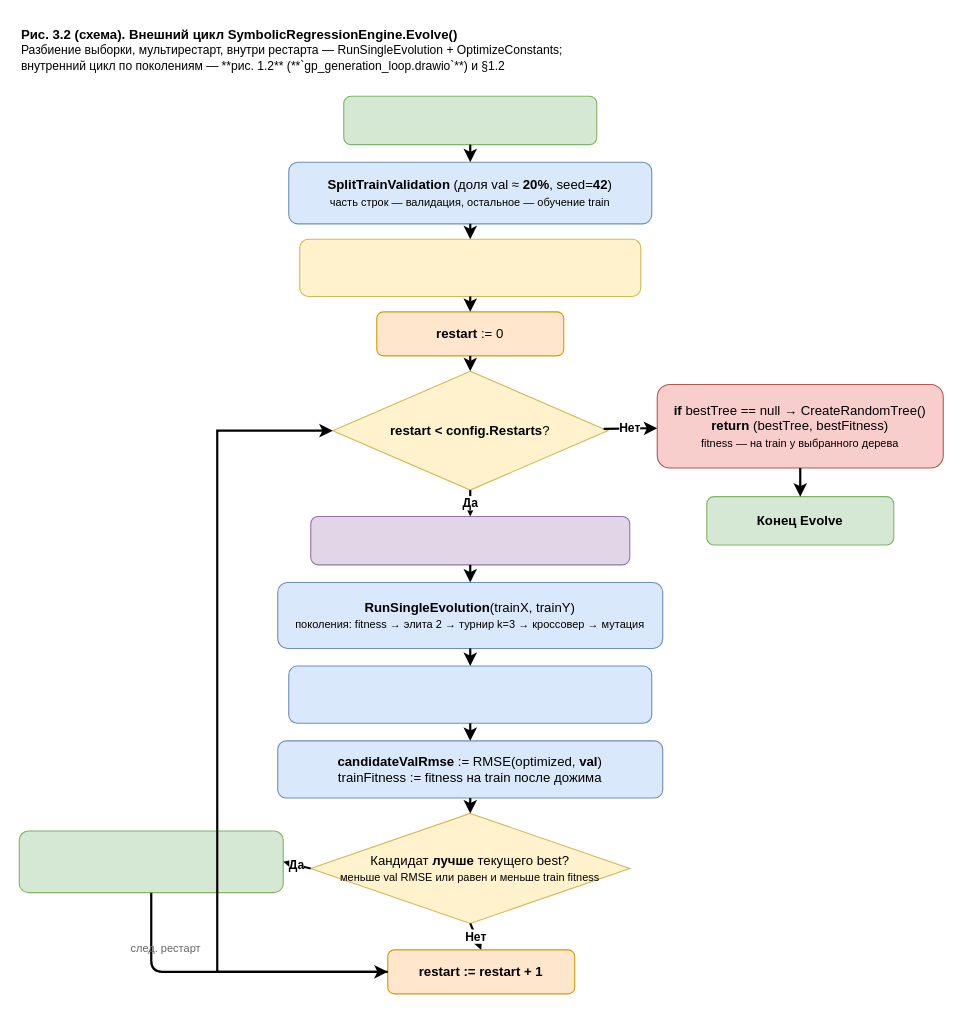
Image size: 963x1013. Some labels were removed from this diagram. Each missing label, with the centre of its shape:
"bestTree := null; bestValRmse := +∞; bestFitness := +∞" belongs at [470,267].
"OptimizeConstants (candidate, train) покоординатный дожим листьев const" belongs at [470,694].
"random := new Random( 12345 + restart )" belongs at [470,540].
"Начало Evolve()" belongs at [470,120].
"Обновить bestTree, bestValRmse, bestFitness копии optimized" belongs at [150,861].
